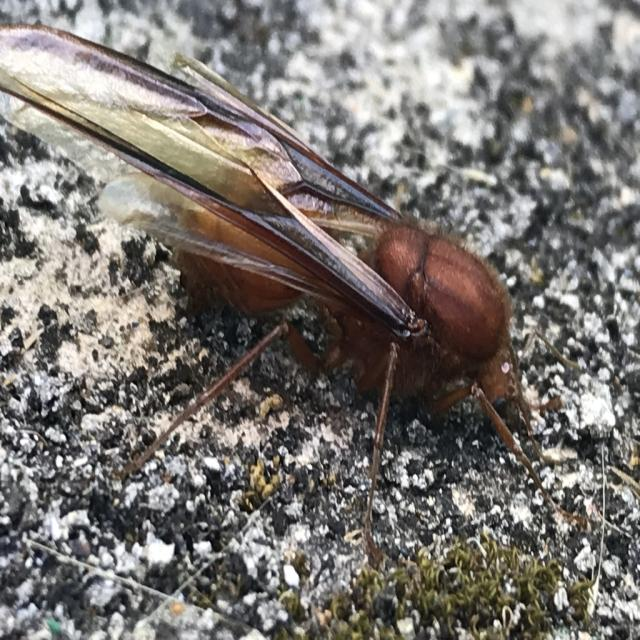Alive-Male-Alate: (0, 22, 587, 568)
